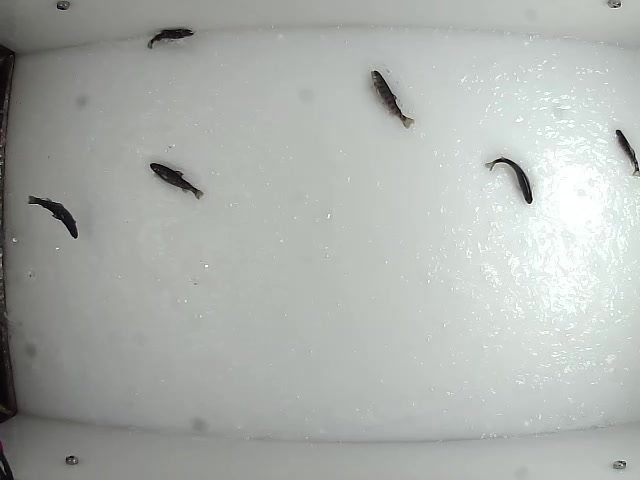fish: (370, 68, 417, 131), (484, 156, 536, 206), (26, 193, 80, 241), (148, 161, 205, 202), (144, 25, 195, 50), (614, 128, 640, 177)
